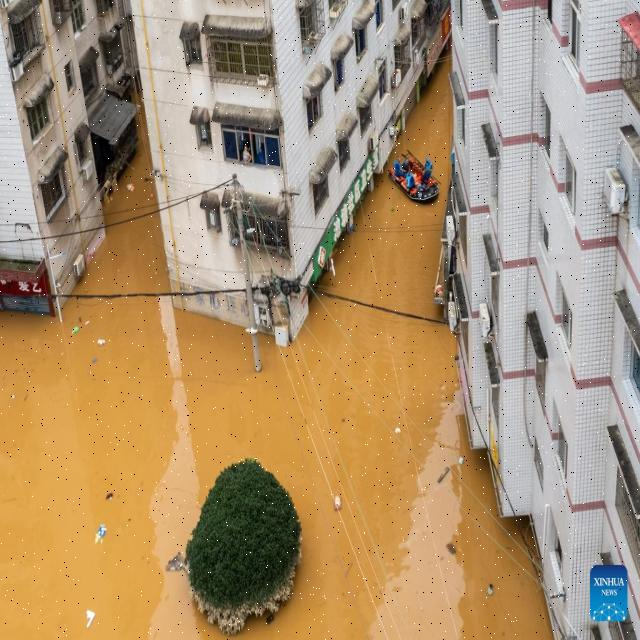rescuer: (416, 154, 436, 184), (390, 151, 409, 179), (404, 167, 426, 191)
